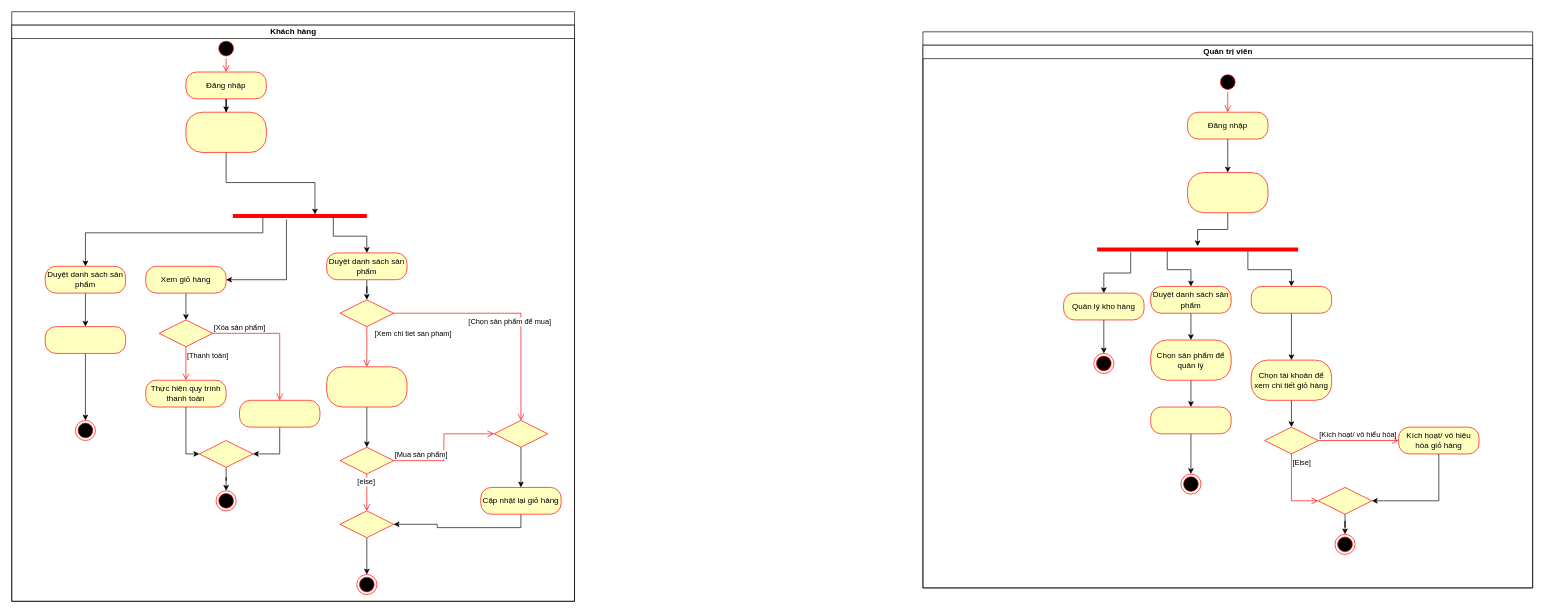
Some shapes in this 1544 by 613 pixel diagram are drawn without their labels. The centre of each missing label's shape, as x and y in pixels:
"Chuyển đến trang bắt đầu" goes at (x=225, y=132).
"Chuyển đến trang quản trị" goes at (x=1227, y=192).
"Chọn sản phẩm để xem chi tiết" goes at (x=366, y=386).
"Cập nhật lại giỏ hàng" goes at (x=279, y=413).
"Duyệt danh sách tài khoản khách hàng" goes at (x=1291, y=299).
"Quản lý sản phẩm" goes at (x=1190, y=420).
"Đánh giá sản phẩm" goes at (x=85, y=339).
